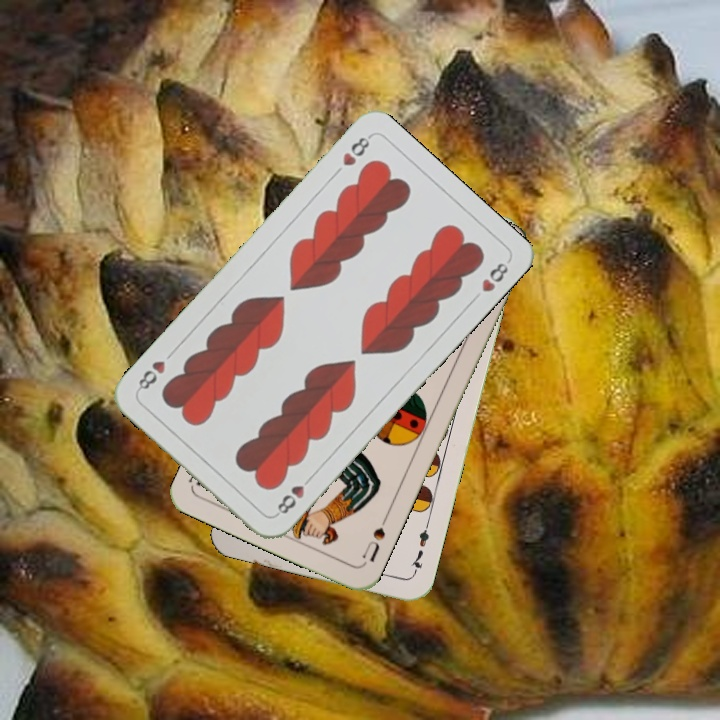E7: (407, 520, 432, 578)
H8: (271, 471, 316, 519), (338, 131, 373, 169)
SU: (357, 511, 391, 565)
